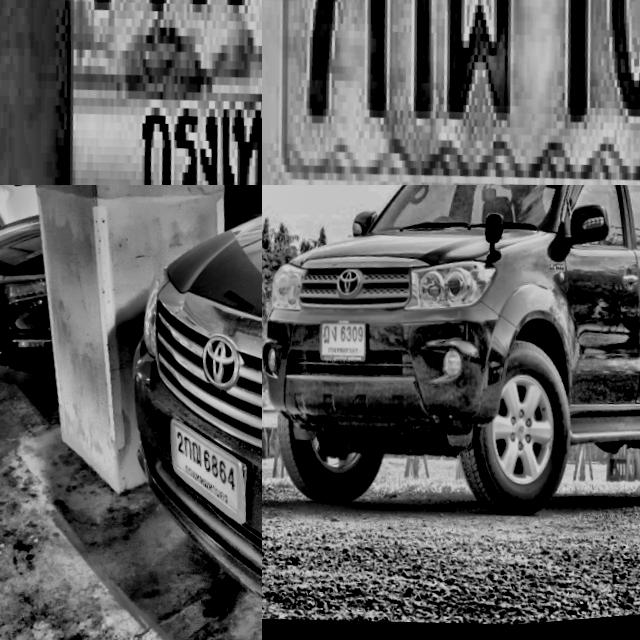license-plate: (262, 0, 640, 185), (0, 0, 262, 185), (150, 415, 250, 538), (309, 319, 364, 370)
